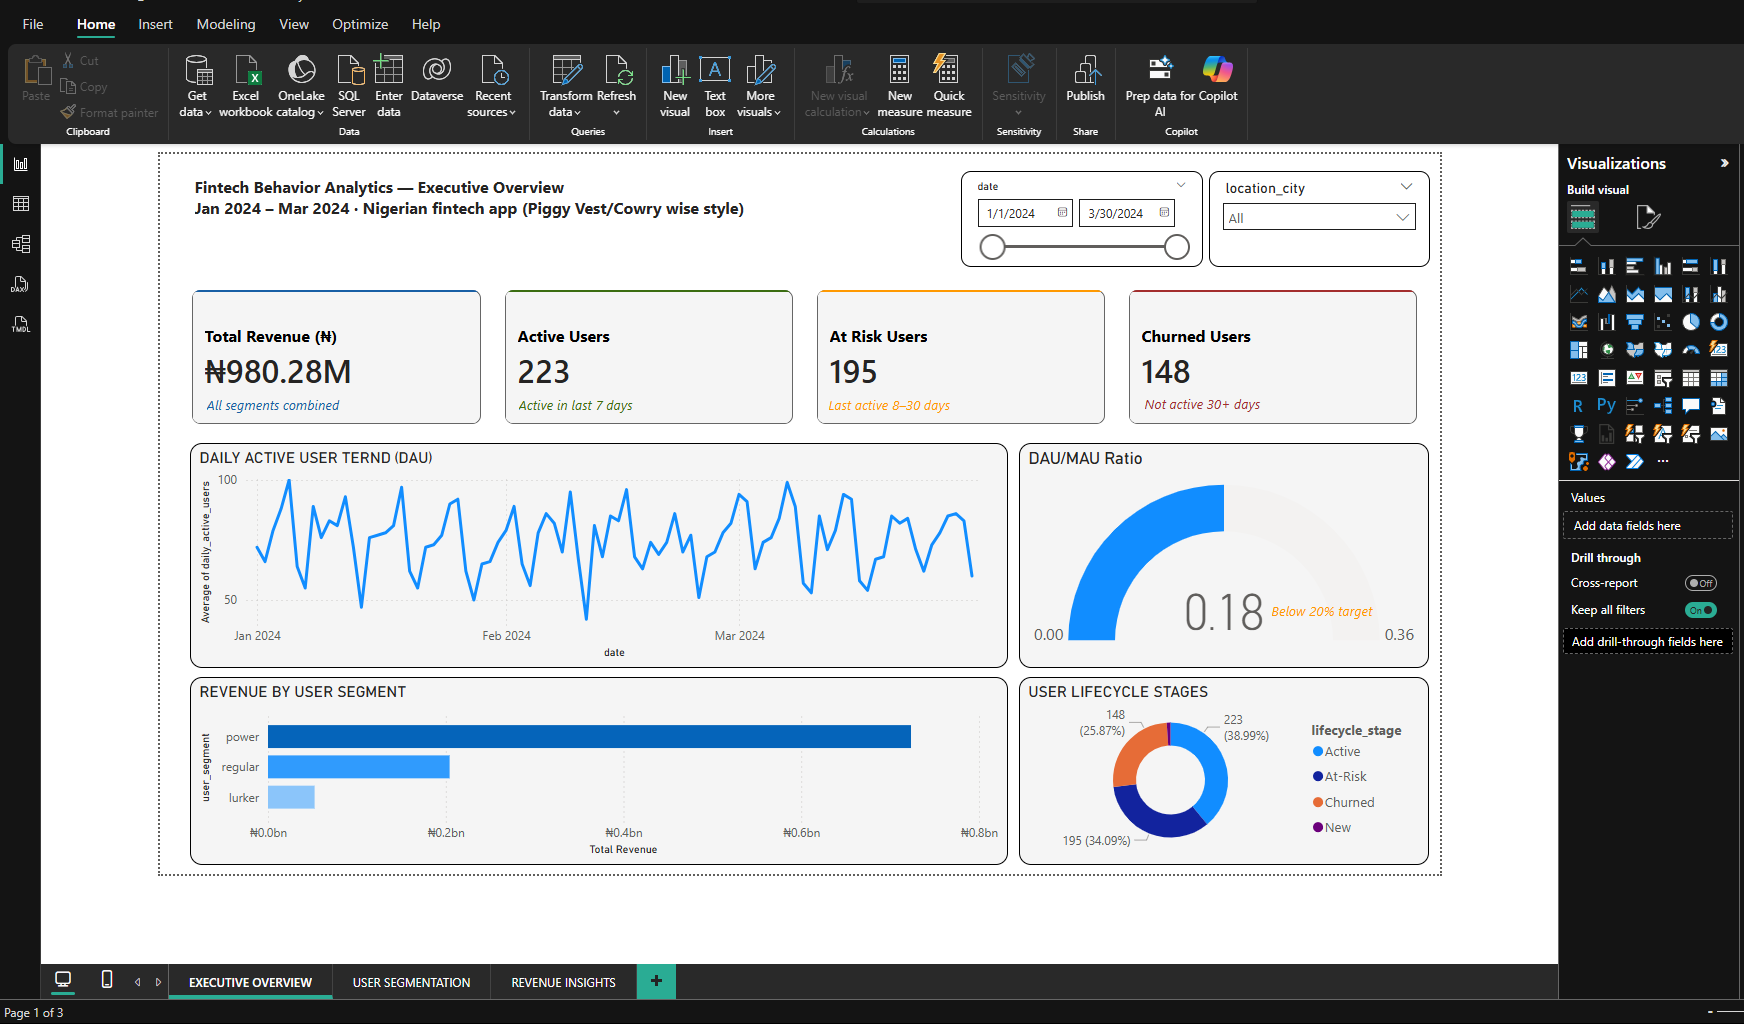

The dashboard page shown, as its layout file describes it:
{"tool":"powerbi","page":{"name":"EXECUTIVE OVERVIEW","canvas":[1280,720],"ordinal":0},"visuals":[{"type":"slicer","fields":{"Values":["dau_metrics.date"]},"box":[801.5,16.5,241.2,96.3],"z":0},{"type":"slicer","fields":{"Values":["user_lifecycle.location_city"]},"box":[1049.5,16.5,220.8,96.3],"z":1000},{"type":"cardVisual","fields":{"Data":["dau_metrics.At Risk Users"]},"box":[644.8,124.5,312.2,157.6],"z":1006,"group":"g1"},{"type":"cardVisual","fields":{"Data":["dau_metrics.Active Users"]},"box":[332.6,124.5,312.2,157.6],"z":1007,"group":"g1"},{"type":"cardVisual","fields":{"Data":["dau_metrics.Churned Users"]},"box":[957.1,124.5,312.2,157.6],"z":1008,"group":"g1"},{"type":"cardVisual","fields":{"Data":["dau_metrics.Total Revenue"]},"box":[20.4,124.5,312.2,157.6],"z":1009},{"type":"textbox","box":[41.8,237.3,156.6,26.9],"z":1010,"group":"g1"},{"type":"textbox","box":[663.3,237.3,145.9,26.9],"z":1012,"group":"g1"},{"type":"textbox","box":[979.4,236.4,134.2,28.6],"z":1013,"group":"g1"},{"type":"group","id":"g1","title":"Group 1","box":[41.8,124.5,1227.5,157.6],"z":1014},{"type":"textbox","box":[354,237.3,143,27.2],"z":1015},{"type":"lineChart","title":"DAILY ACTIVE USER TERND (DAU)","fields":{"Y":["Avg(dau_metrics.daily_active_users)"],"Category":["dau_metrics.date"]},"box":[30.2,288.9,818,224.7],"z":1016},{"type":"gauge","title":"DAU/MAU Ratio","fields":{"Y":["dau_metrics.DAU MAU Ratio"]},"box":[858.8,288.9,410.5,224.7],"z":1017},{"type":"barChart","title":"REVENUE BY USER SEGMENT","fields":{"Category":["user_lifecycle.user_segment"],"Y":["dau_metrics.Total Revenue"]},"box":[30.2,523.3,818,187.7],"z":1018},{"type":"donutChart","title":"USER LIFECYCLE STAGES","fields":{"Category":["user_lifecycle.lifecycle_stage"],"Y":["dau_metrics.Total Users"]},"box":[858.8,523.3,410.5,187.7],"z":1019},{"type":"textbox","box":[30.2,16.5,650.7,89.5],"z":1020},{"type":"textbox","box":[1106.9,442.6,127.4,34],"z":1021}]}

Visuals, with their boxes on the page's 1280x720 design canvas (x1, y1, x2, y2). These are canvas units, not pixel positions in the 1744x1024 screenshot, which may show the page scaled, cropped or inside an application window:
slicer - dau_metrics.date: (802, 16, 1043, 113)
slicer - user_lifecycle.location_city: (1050, 16, 1270, 113)
cardVisual - dau_metrics.At Risk Users: (645, 124, 957, 282)
cardVisual - dau_metrics.Active Users: (333, 124, 645, 282)
cardVisual - dau_metrics.Churned Users: (957, 124, 1269, 282)
cardVisual - dau_metrics.Total Revenue: (20, 124, 333, 282)
textbox: (42, 237, 198, 264)
textbox: (663, 237, 809, 264)
textbox: (979, 236, 1114, 265)
"Group 1" group: (42, 124, 1269, 282)
textbox: (354, 237, 497, 264)
"DAILY ACTIVE USER TERND (DAU)" lineChart: (30, 289, 848, 514)
"DAU/MAU Ratio" gauge: (859, 289, 1269, 514)
"REVENUE BY USER SEGMENT" barChart: (30, 523, 848, 711)
"USER LIFECYCLE STAGES" donutChart: (859, 523, 1269, 711)
textbox: (30, 16, 681, 106)
textbox: (1107, 443, 1234, 477)
